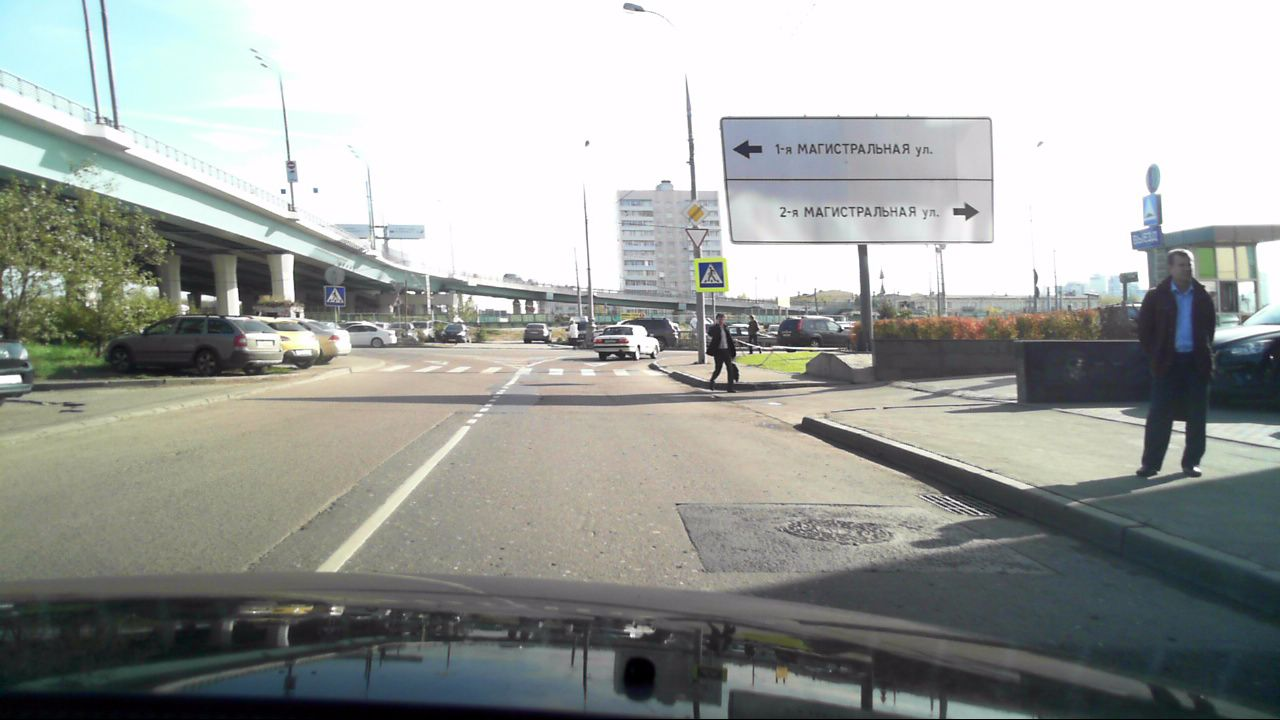main road: (683, 198, 710, 226)
